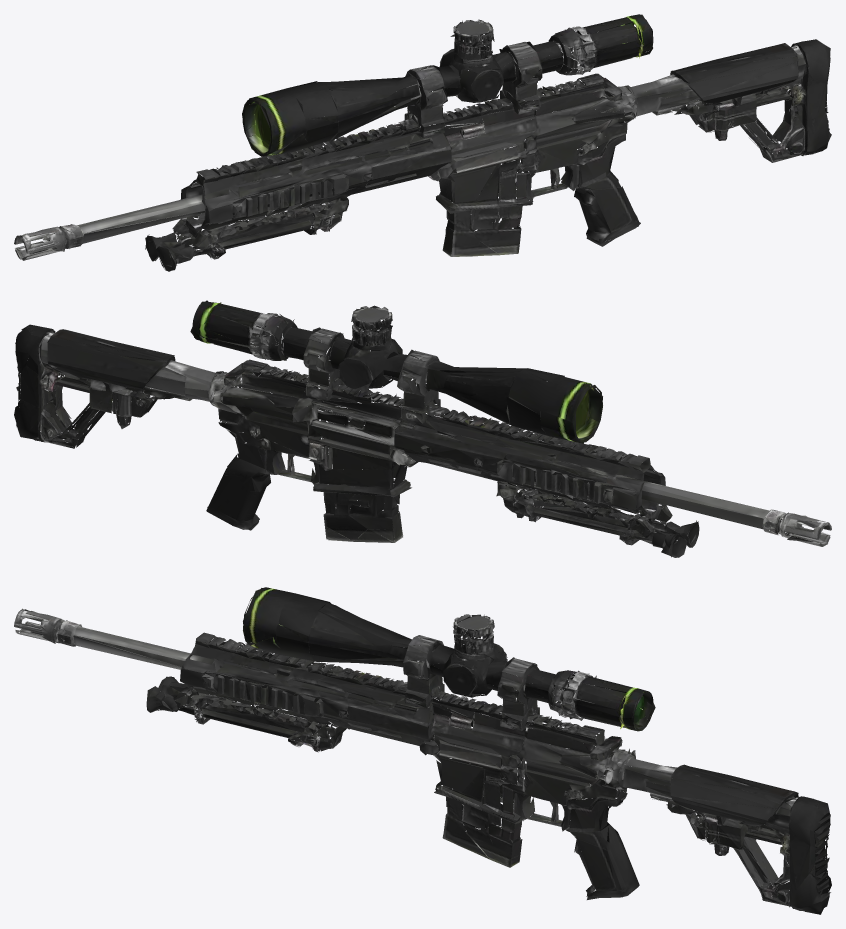
File: gun_sniper_lo.glb
3 renders of one model, top to bottom at view 1: azimuth 30°, elevation 25°; view 2: azimuth 150°, elevation 25°; view 3: azimuth 330°, elevation 25°, orthographic.
Parts seen in each view (by area): view 1: Mesh_0; view 2: Mesh_0; view 3: Mesh_0.
Boxes of the visible parts, box(x1,y1,x2,y2) form: Mesh_0: box(14, 14, 831, 271); Mesh_0: box(14, 300, 831, 557); Mesh_0: box(14, 587, 831, 914).
Bounding box in the file's own units: 1.91 × 0.5486 × 0.151.
Materials: 1 (1 with a texture image).
